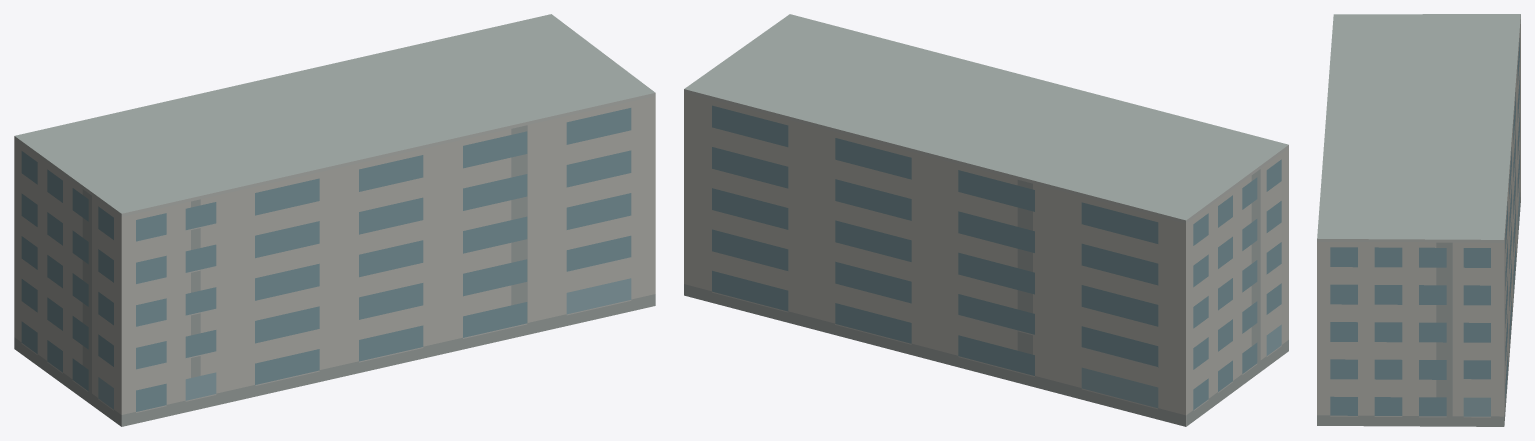
The model's file is residential-8ce235a2-12b4-4c14-8d0c-a60a62103024.glb.
3 renders of one model, left to right at view 1: azimuth 30°, elevation 25°; view 2: azimuth 150°, elevation 25°; view 3: azimuth 270°, elevation 25°, orthographic. The views are drawn at different scales.
Visible parts, largest first — view 1: residential-8ce235a2-12b4-4c14-8d0c-a60a62103024.tmp; view 2: residential-8ce235a2-12b4-4c14-8d0c-a60a62103024.tmp; view 3: residential-8ce235a2-12b4-4c14-8d0c-a60a62103024.tmp.
Boxes of the visible parts, x1,y1,x2,y2 form: residential-8ce235a2-12b4-4c14-8d0c-a60a62103024.tmp: [14, 14, 655, 426]; residential-8ce235a2-12b4-4c14-8d0c-a60a62103024.tmp: [684, 14, 1288, 426]; residential-8ce235a2-12b4-4c14-8d0c-a60a62103024.tmp: [1317, 14, 1520, 426].
Bounding box in the file's own units: 39.53 × 15.25 × 15.07.
